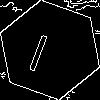I: (25, 25, 55, 73)
